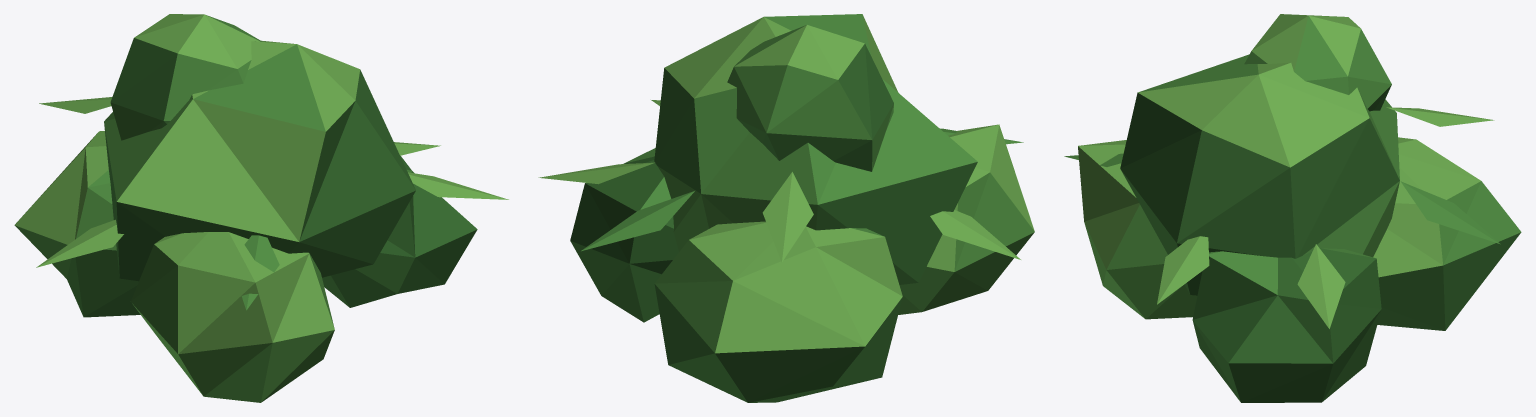
The model's file is bush_round_a.fbx.
The picture shows the model from 3 angles, left to right: view 1: azimuth 30°, elevation 25°; view 2: azimuth 150°, elevation 25°; view 3: azimuth 270°, elevation 25°; orthographic projection. The views are drawn at different scales.
Parts seen in each view (by area): view 1: bush_round_a; view 2: bush_round_a; view 3: bush_round_a.
Part boxes in pixels (<box>): bush_round_a: <box>14,14,508,402</box>; bush_round_a: <box>538,14,1034,402</box>; bush_round_a: <box>1064,14,1521,402</box>.
Bounding box in the file's own units: 1.68 × 1.17 × 1.56.
